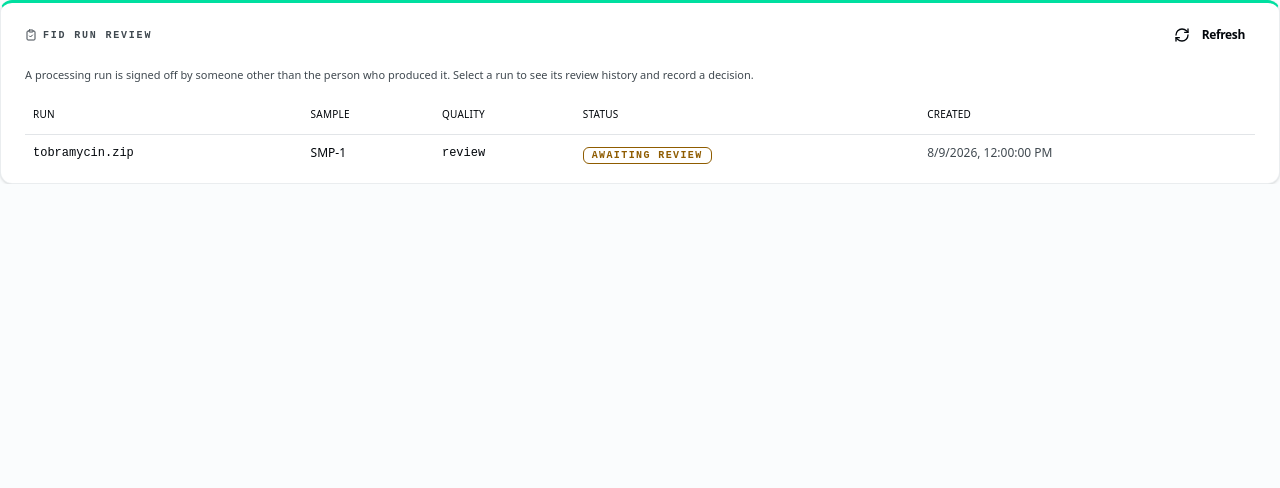
it: FID run review › records a decision and refreshes the history
Click the row with test id "fid-run-row-7" at (640, 152), box [25,134,1255,171]
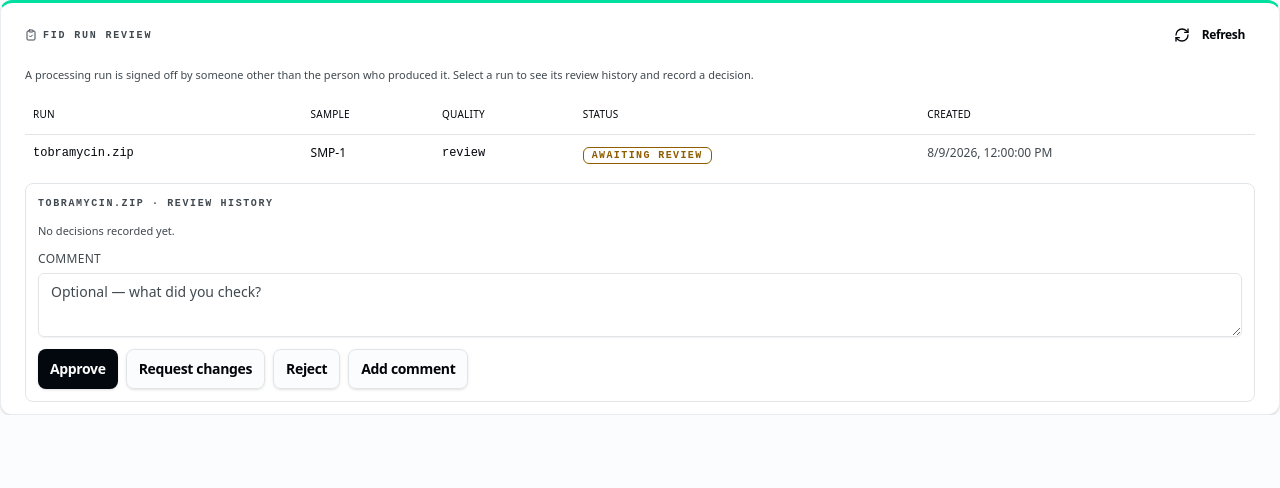
expect the text "No decisions recorded yet." is shown: met, box [38,223,175,238]
Click the button with test id "fid-review-action-approve" at (78, 369), box [38,349,118,389]
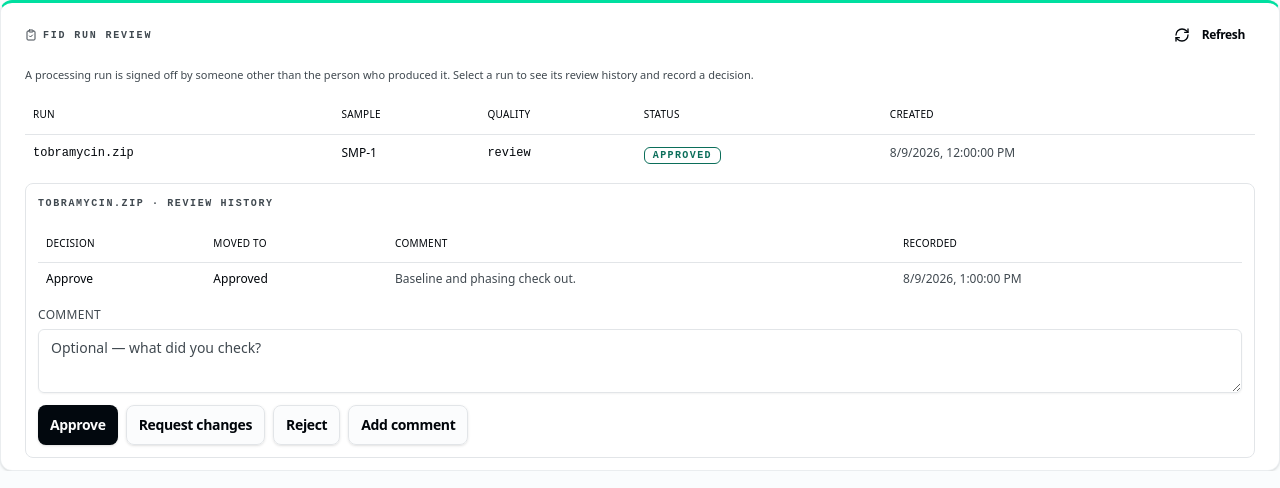
expect the text "Approved" is shown: met, box [644,147,721,164]
